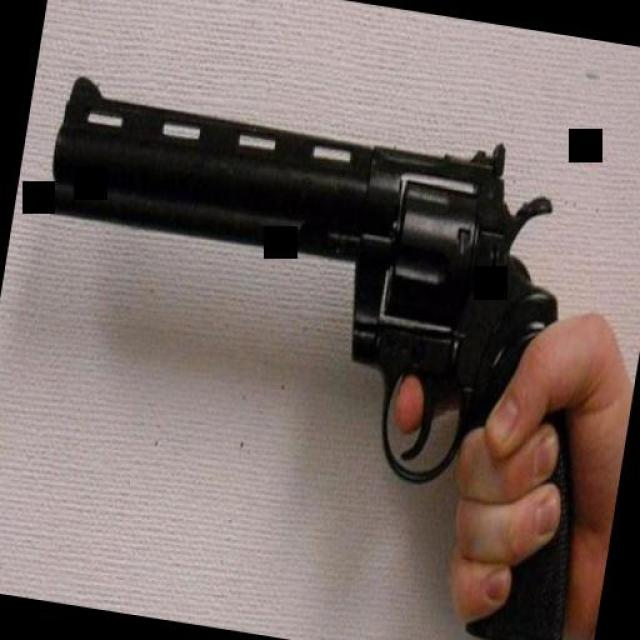gun: (0, 61, 635, 640)
